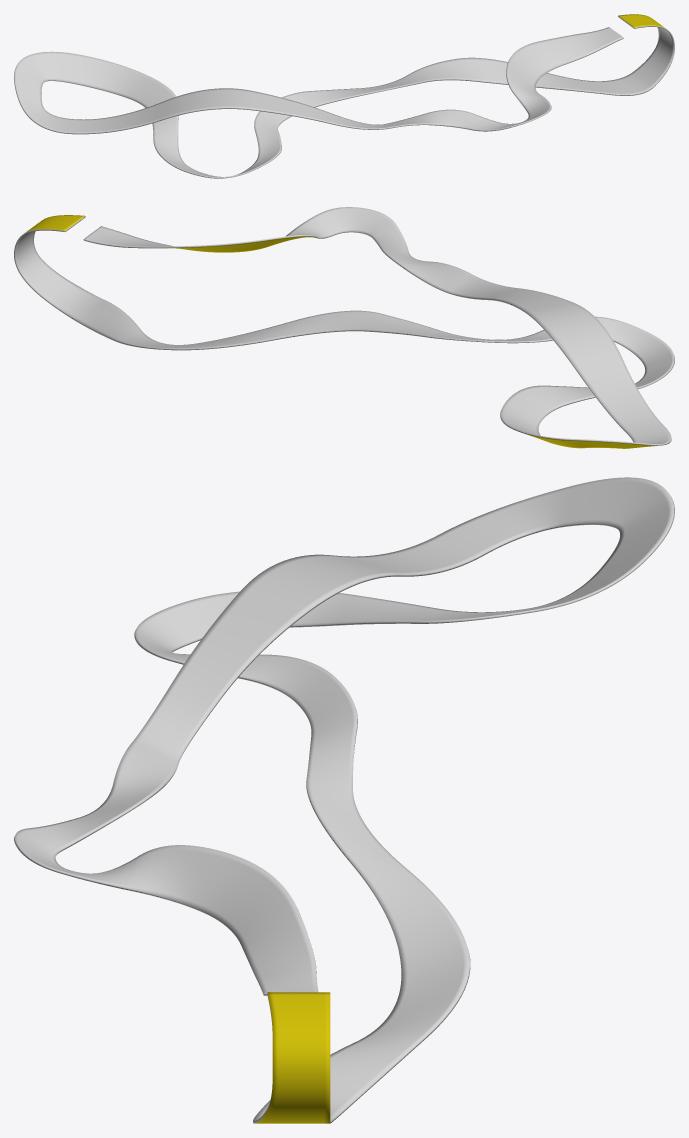
The model's file is RainbowRoad.fbx.
3 views of the same model, one above another, from view 1: azimuth 30°, elevation 25°; view 2: azimuth 150°, elevation 25°; view 3: azimuth 270°, elevation 25° (orthographic). The views are drawn at different scales.
Parts seen in each view (by area): view 1: RainbowRoad; view 2: RainbowRoad; view 3: RainbowRoad.
Boxes of the visible parts, bbox=[...] form: RainbowRoad: bbox=[14, 14, 674, 178]; RainbowRoad: bbox=[14, 207, 674, 448]; RainbowRoad: bbox=[14, 477, 674, 1123].
Bounding box in the file's own units: 264 × 38.07 × 136.
